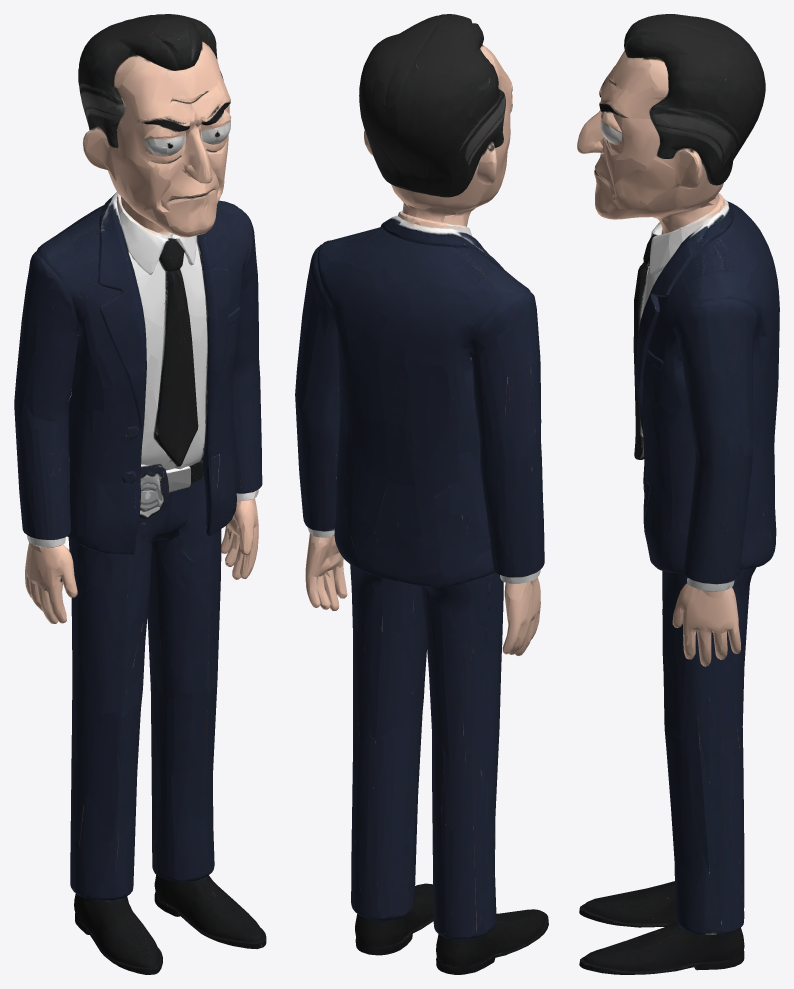
The model's file is regularlegs.glb.
The picture shows the model from 3 angles, left to right: view 1: azimuth 30°, elevation 25°; view 2: azimuth 150°, elevation 25°; view 3: azimuth 270°, elevation 25°; orthographic projection.
Bounding box in the file's own units: 0.5213 × 1.9 × 0.3805.
1 material, 1 textured.
